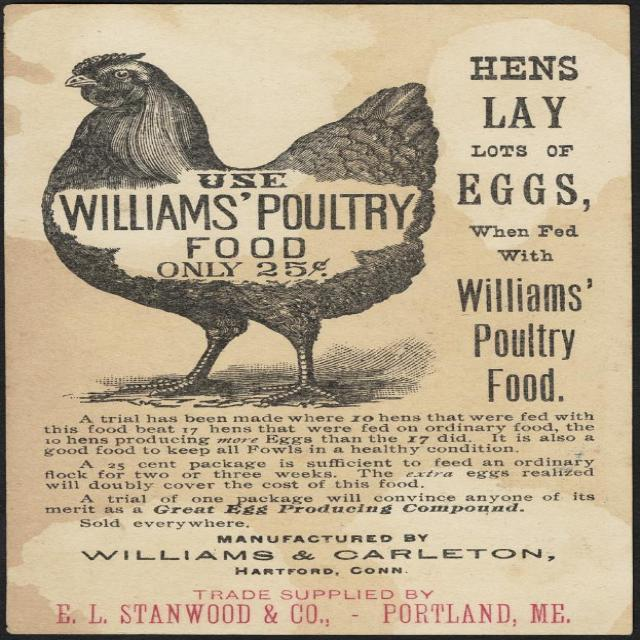Chicken: (48, 56, 446, 373)
